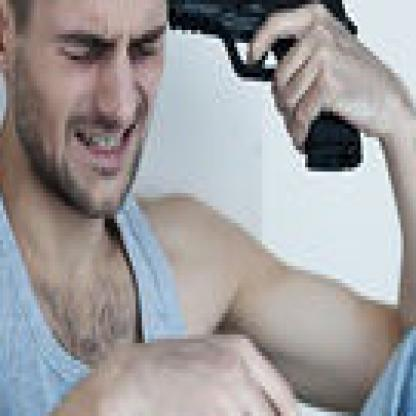gun: (163, 0, 364, 176)
